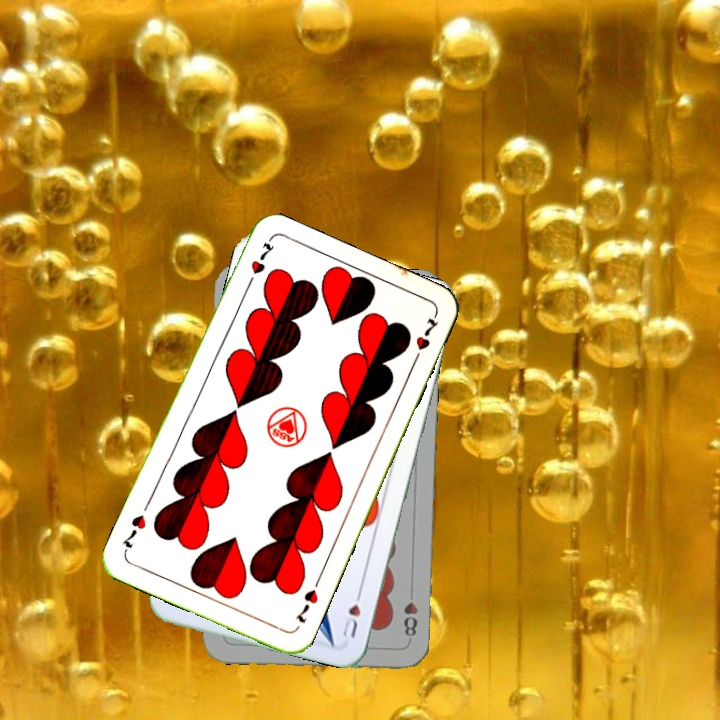H7: (242, 236, 275, 292), (291, 585, 321, 626)
H8: (399, 597, 420, 639)
HU: (338, 584, 366, 641)
